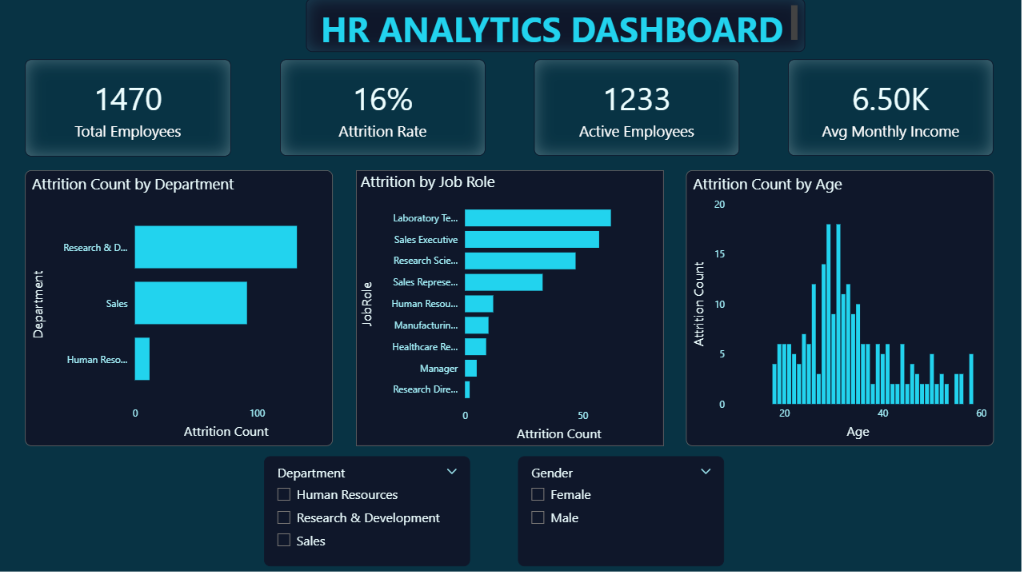

What the dashboard file says about the page in this screenshot:
{"tool":"powerbi","page":{"name":"Executive Summary","canvas":[1280,720],"ordinal":0},"visuals":[{"type":"card","fields":{"Values":["_Measures.Total Employees"]},"box":[31.2,76.7,257.5,121.2],"z":0,"group":"g1"},{"type":"card","fields":{"Values":["_Measures.Attrition Rate"]},"box":[349.5,76.7,257,121.1],"z":1000,"group":"g1"},{"type":"card","fields":{"Values":["_Measures.Active Employees"]},"box":[667.4,76.7,257,121],"z":2000,"group":"g1"},{"type":"card","fields":{"Values":["_Measures.Avg Monthly Income"]},"box":[985.2,76.7,257,121],"z":3000,"group":"g1"},{"type":"clusteredBarChart","fields":{"Category":["HR_Data.Department"],"Y":["_Measures.Attrition Count"]},"box":[31.2,215,385,345],"z":4000,"group":"g1"},{"type":"barChart","title":"Attrition  by Job Role","fields":{"Category":["HR_Data.JobRole"],"Y":["_Measures.Attrition Count"]},"box":[444.3,215,385,345],"z":5000,"group":"g1"},{"type":"columnChart","fields":{"Category":["HR_Data.Age"],"Y":["_Measures.Attrition Count"]},"box":[857.4,215,385,345],"z":6000,"group":"g1"},{"type":"slicer","fields":{"Values":["HR_Data.Department"]},"box":[330,572.5,257.5,137.5],"z":7000,"group":"g1"},{"type":"slicer","fields":{"Values":["HR_Data.Gender"]},"box":[647.4,572.5,257.5,137.5],"z":8000,"group":"g1"},{"type":"textbox","box":[382.4,0,623.8,67.5],"z":9000,"group":"g1"},{"type":"group","id":"g1","title":"Group 1","box":[31.2,0,1211.2,710],"z":9001}]}

Visuals, with their boxes in screenshot pixels (x1, y1, x2, y2), scaled from the page's 1280x720 canvas onto the 1022x572 screenshot:
card - _Measures.Total Employees: select_region(25, 61, 231, 157)
card - _Measures.Attrition Rate: select_region(279, 61, 484, 157)
card - _Measures.Active Employees: select_region(533, 61, 738, 157)
card - _Measures.Avg Monthly Income: select_region(787, 61, 992, 157)
clusteredBarChart - HR_Data.Department x _Measures.Attrition Count: select_region(25, 171, 332, 445)
"Attrition  by Job Role" barChart: select_region(355, 171, 662, 445)
columnChart - HR_Data.Age x _Measures.Attrition Count: select_region(685, 171, 992, 445)
slicer - HR_Data.Department: select_region(263, 455, 469, 564)
slicer - HR_Data.Gender: select_region(517, 455, 723, 564)
textbox: select_region(305, 0, 803, 54)
"Group 1" group: select_region(25, 0, 992, 564)
